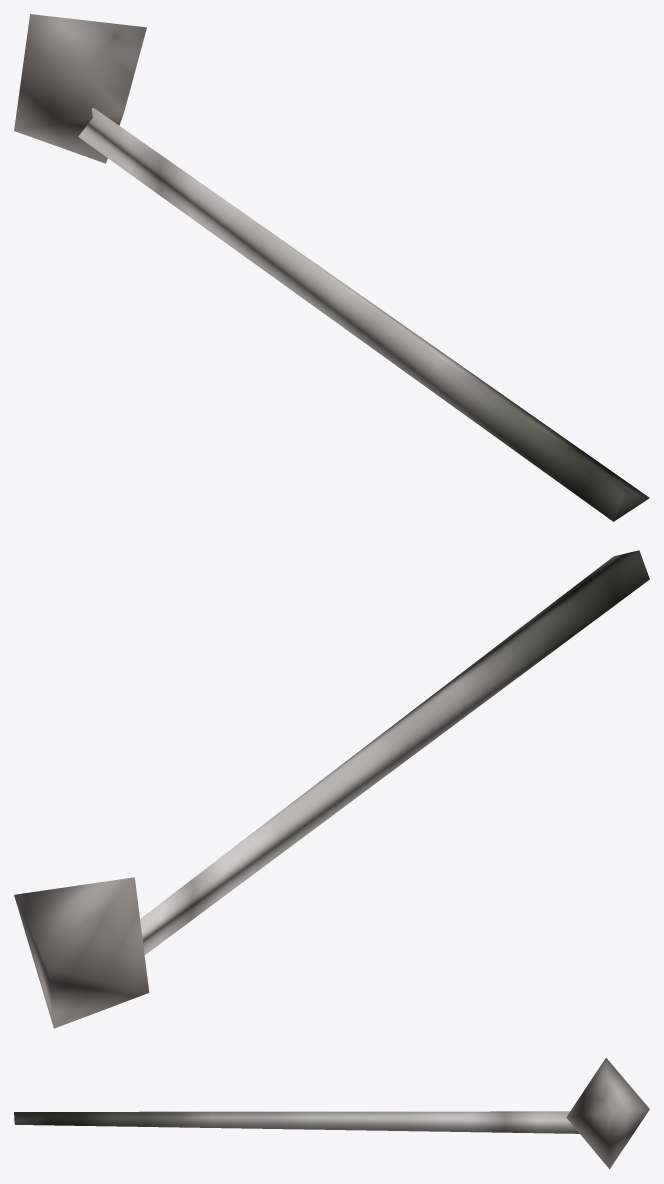
File: corellian_corvette_turret_small_s01_l2.fbx
3 views of the same model, one above another, from view 1: azimuth 30°, elevation 25°; view 2: azimuth 150°, elevation 25°; view 3: azimuth 270°, elevation 25° (orthographic). The views are drawn at different scales.
Visible parts, largest first — view 1: mesh_node; view 2: mesh_node; view 3: mesh_node.
Part boxes in pixels (<box>): mesh_node: <box>14,14,649,521</box>; mesh_node: <box>14,550,649,1028</box>; mesh_node: <box>14,1058,649,1169</box>.
Bounding box in the file's own units: 1.02 × 1.23 × 7.77.
